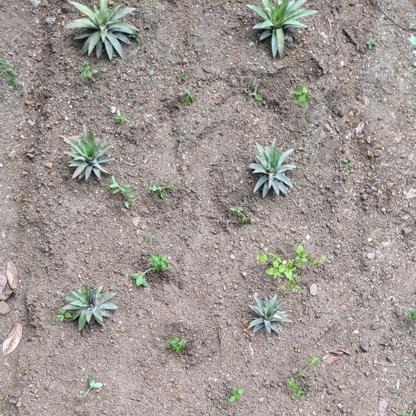pineapple: (63, 1, 140, 60), (245, 1, 318, 57), (247, 139, 299, 203), (62, 279, 121, 334), (65, 128, 117, 187), (246, 289, 293, 337)
weed: (250, 246, 313, 285), (132, 254, 176, 290), (221, 203, 249, 234), (161, 332, 190, 361), (148, 180, 177, 206), (80, 375, 108, 398), (219, 379, 245, 403)
